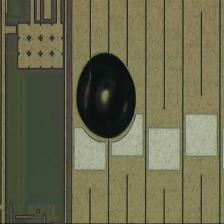PARTICLE: (75, 51, 139, 145)
